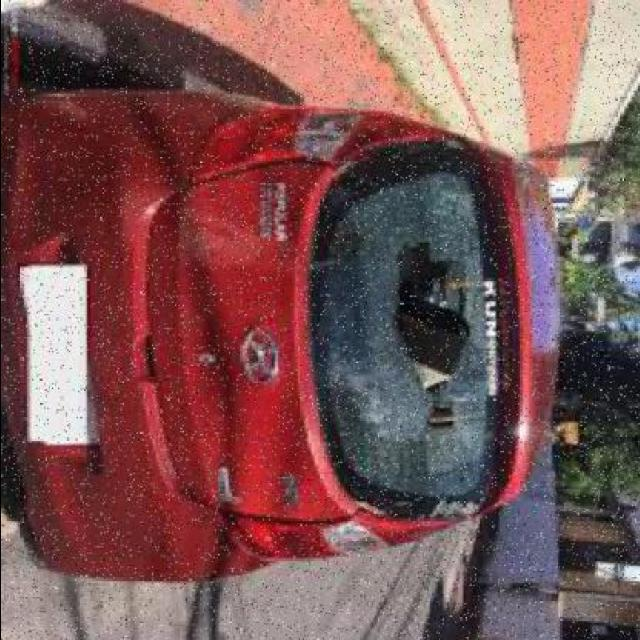Rear-windscreen-Damage: (251, 122, 522, 545)
